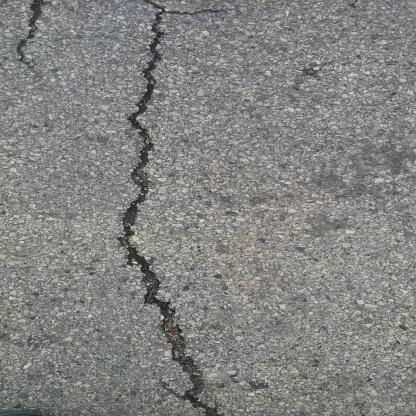Cracks: (107, 0, 228, 415), (9, 0, 58, 80)
